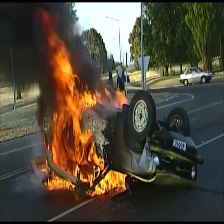fire_h: (39, 10, 107, 187), (87, 170, 127, 196), (45, 169, 76, 191)
fire_l: (113, 91, 127, 109), (41, 129, 49, 150), (41, 157, 50, 175), (104, 87, 112, 99)
